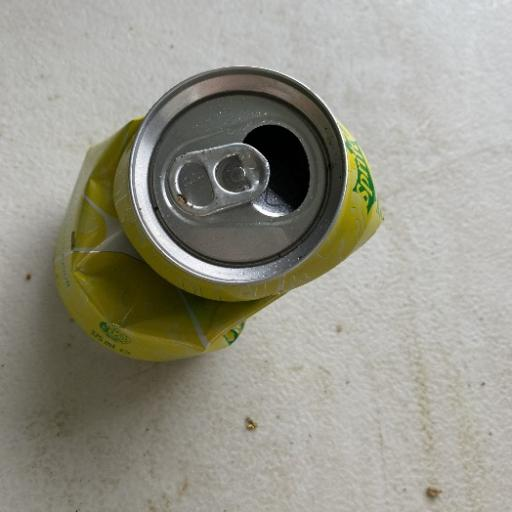Metal: (51, 64, 384, 364)
